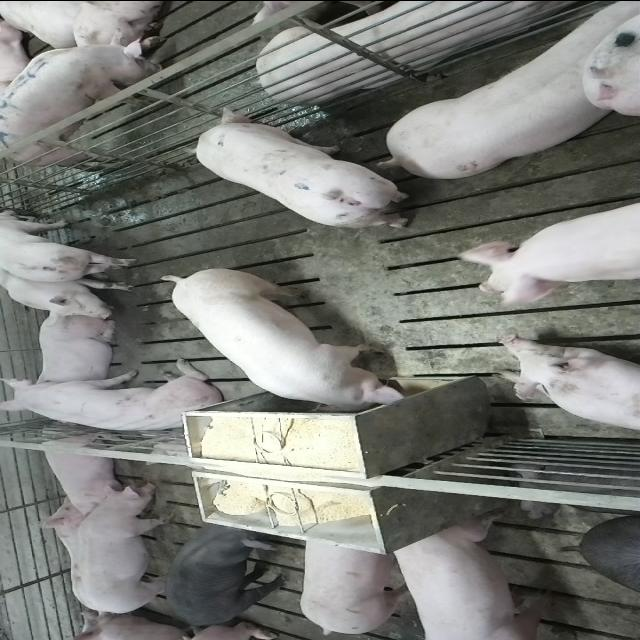Feeding: (161, 271, 411, 420)
Sitting: (4, 363, 230, 437), (1, 210, 142, 284), (2, 266, 144, 318)
Standing: (373, 6, 634, 184), (194, 104, 420, 226), (457, 189, 640, 315), (386, 516, 574, 638), (0, 28, 156, 165), (78, 482, 181, 618), (160, 516, 284, 626), (298, 532, 414, 635)
Sternal_lying: (255, 0, 599, 100), (498, 336, 640, 434), (35, 430, 132, 510), (35, 311, 121, 390)
